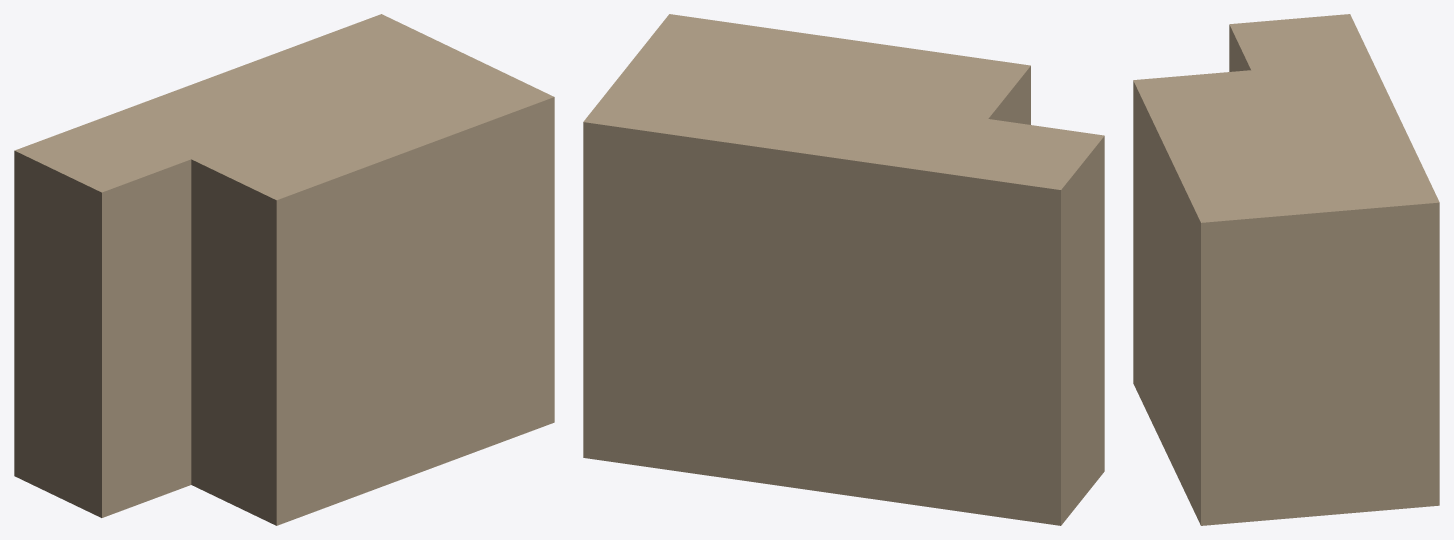
Rendered from bld_106456180.dae.
The picture shows the model from 3 angles, left to right: view 1: azimuth 30°, elevation 25°; view 2: azimuth 150°, elevation 25°; view 3: azimuth 270°, elevation 25°; orthographic projection. The views are drawn at different scales.
Parts seen in each view (by area): view 1: bld_106456180; view 2: bld_106456180; view 3: bld_106456180.
Part boxes in pixels (<box>): bld_106456180: <box>14,14,554,525</box>; bld_106456180: <box>583,14,1104,525</box>; bld_106456180: <box>1133,14,1439,525</box>.
Bounding box in the file's own units: 11.83 × 7.33 × 8.
